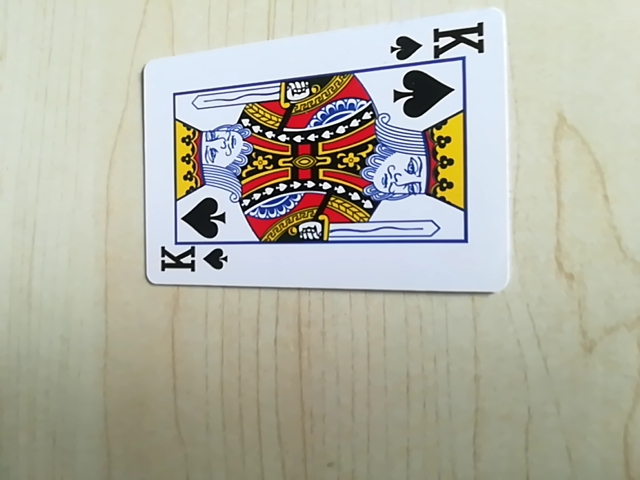ht k: (387, 19, 491, 67), (154, 241, 230, 282)
